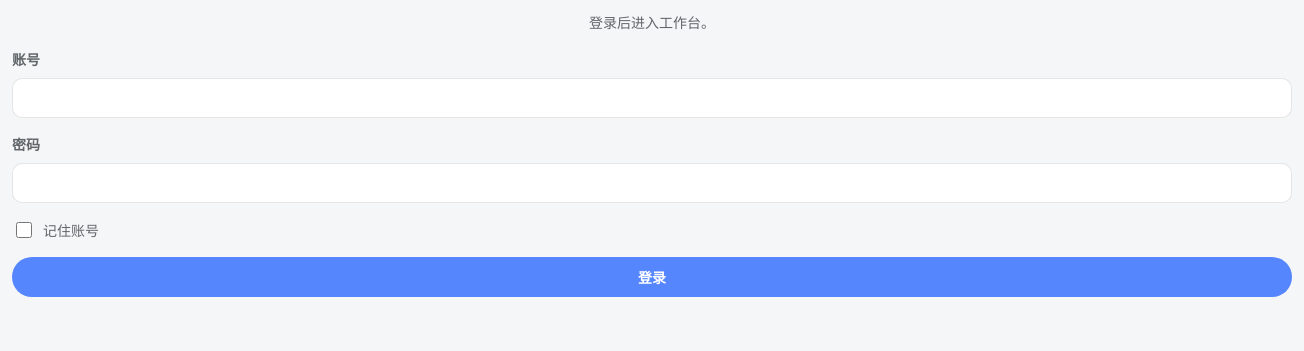
Test case: LoginPage 登录页 › 429 限速（RATE_LIMITED）：限速提示与等待引导（RV-06 a / RV-38 非阻塞 3）
Type "manager" into the field labelled "账号".
click(652, 98); type("manager")  # box [12,78,1292,118]
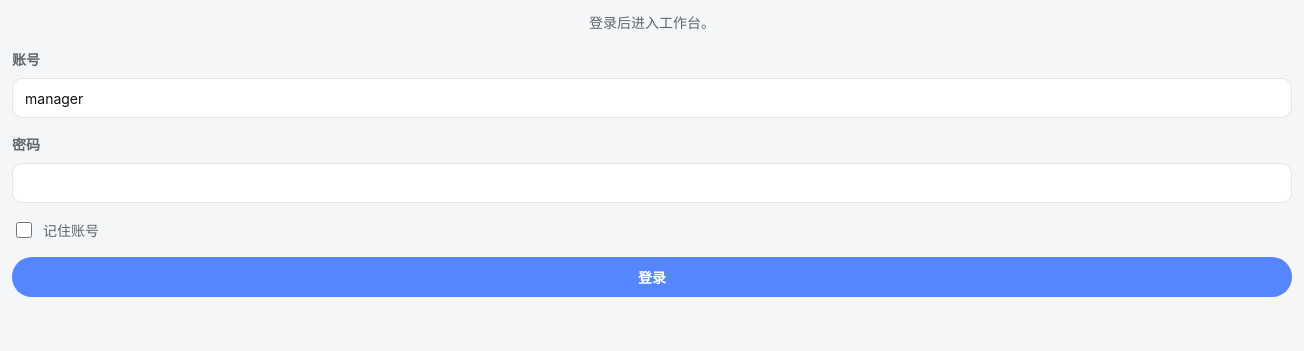
Type "secret" into the password field labelled "密码".
click(652, 183); type("secret")  # box [12,163,1292,203]
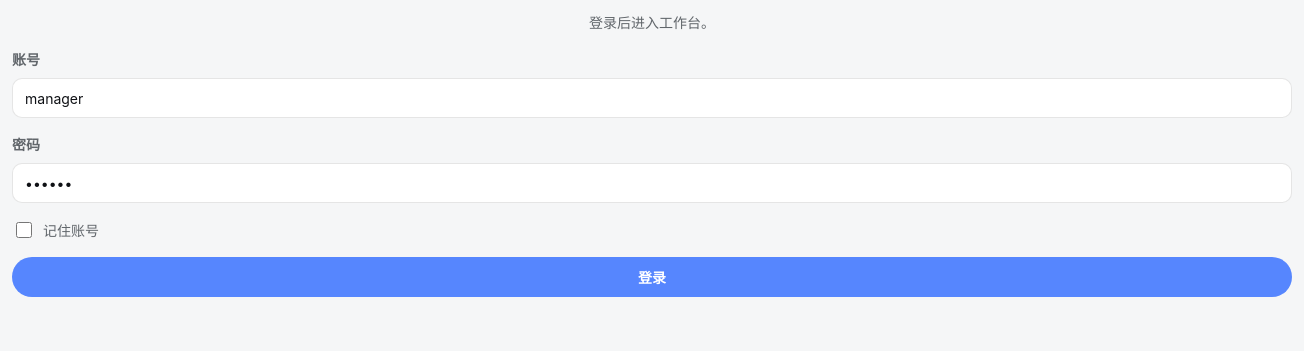
Click the button "登录".
click(652, 277)  # box [12,257,1292,297]
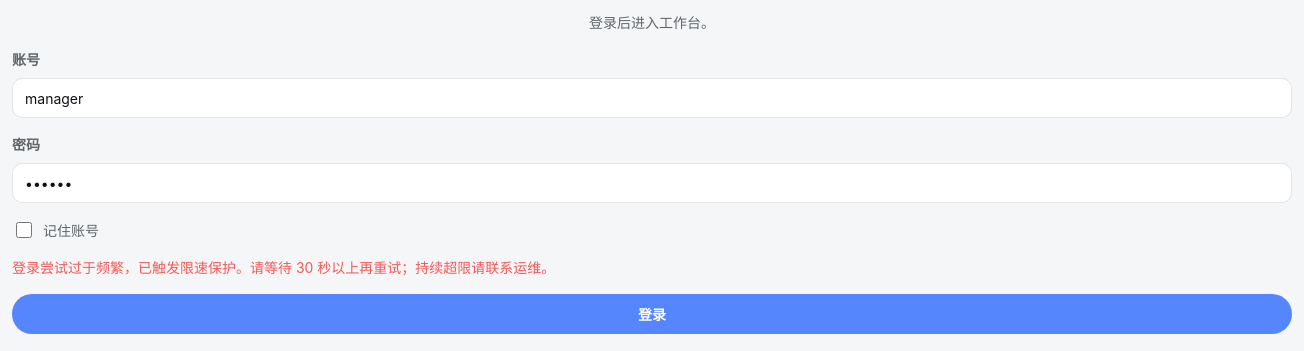
Result: the message shows "登录尝试过于频繁，已触发限速保护" at [12,259,555,276]
Result: the message shows "请等待 30 秒以上再重试" at [12,259,555,276]
